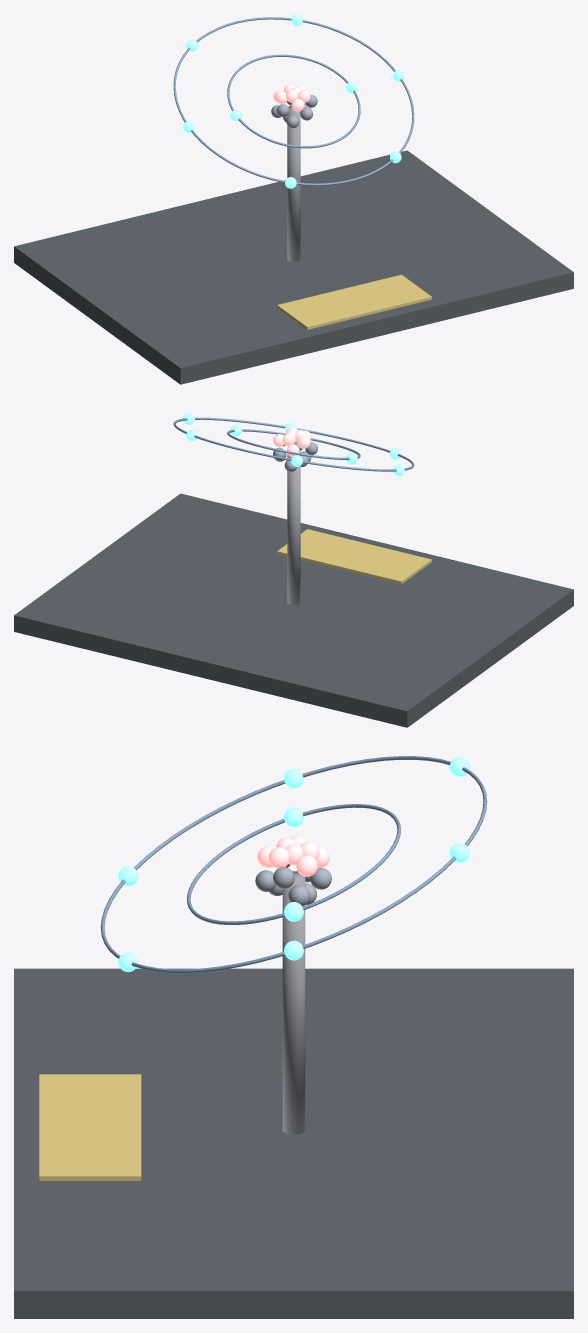
Rendered from oxygen-atom.glb.
The picture shows the model from 3 angles, top to bottom: view 1: azimuth 30°, elevation 25°; view 2: azimuth 150°, elevation 25°; view 3: azimuth 270°, elevation 25°; orthographic projection. The views are drawn at different scales.
Visible parts, largest first — view 1: oxygen-atom_Plinth, oxygen-atom_Plaque, oxygen-atom_Stand_Post, oxygen-atom_Ring_L, oxygen-atom_Ring_K; view 2: oxygen-atom_Plinth, oxygen-atom_Plaque, oxygen-atom_Stand_Post, oxygen-atom_Ring_L, oxygen-atom_Ring_K; view 3: oxygen-atom_Plinth, oxygen-atom_Plaque, oxygen-atom_Stand_Post, oxygen-atom_Ring_L, oxygen-atom_Ring_K.
Boxes of the visible parts, bbox=[...] form: oxygen-atom_Plinth: bbox=[14, 150, 573, 384]; oxygen-atom_Plaque: bbox=[277, 274, 431, 329]; oxygen-atom_Stand_Post: bbox=[287, 105, 300, 262]; oxygen-atom_Ring_L: bbox=[173, 17, 414, 185]; oxygen-atom_Ring_K: bbox=[227, 54, 360, 148]; oxygen-atom_Plinth: bbox=[14, 493, 573, 727]; oxygen-atom_Plaque: bbox=[277, 529, 431, 584]; oxygen-atom_Stand_Post: bbox=[287, 450, 300, 605]; oxygen-atom_Ring_L: bbox=[173, 417, 414, 471]; oxygen-atom_Ring_K: bbox=[227, 429, 360, 459]; oxygen-atom_Plinth: bbox=[14, 968, 573, 1318]; oxygen-atom_Plaque: bbox=[39, 1074, 141, 1180]; oxygen-atom_Stand_Post: bbox=[282, 871, 305, 1134]; oxygen-atom_Ring_L: bbox=[100, 756, 487, 972]; oxygen-atom_Ring_K: bbox=[187, 804, 400, 924].
Size of the model in its own units: 0.3 by 0.1551 by 0.22.
